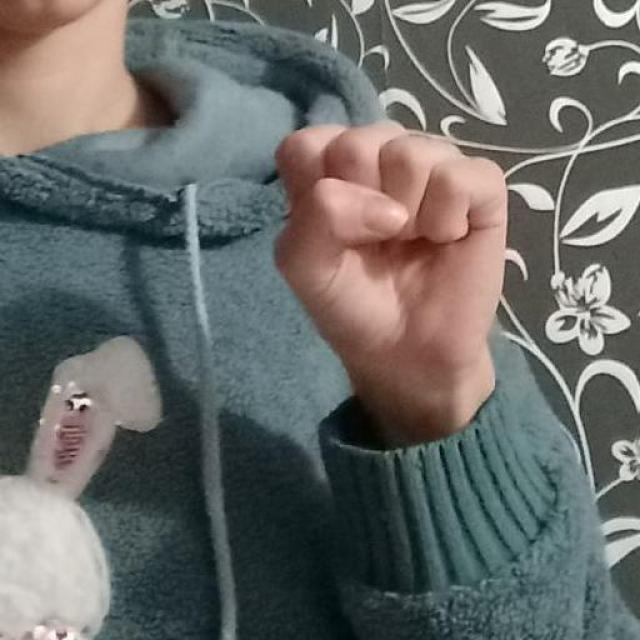hand: (270, 118, 509, 446)
